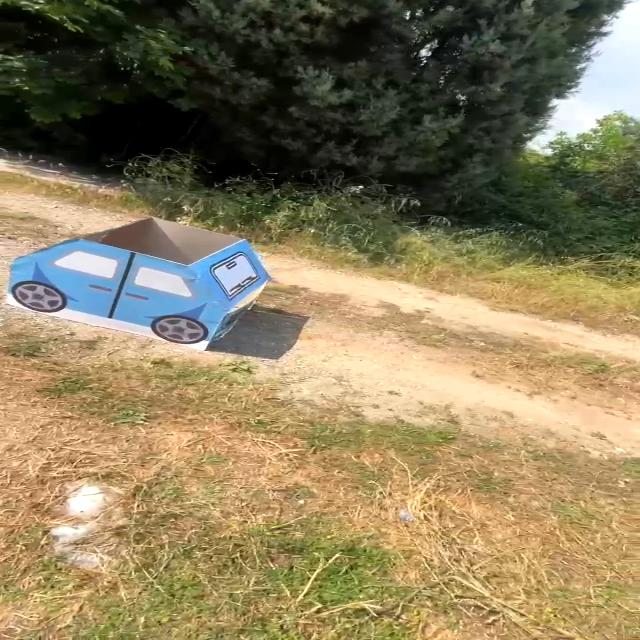blue_car: (0, 198, 292, 371)
